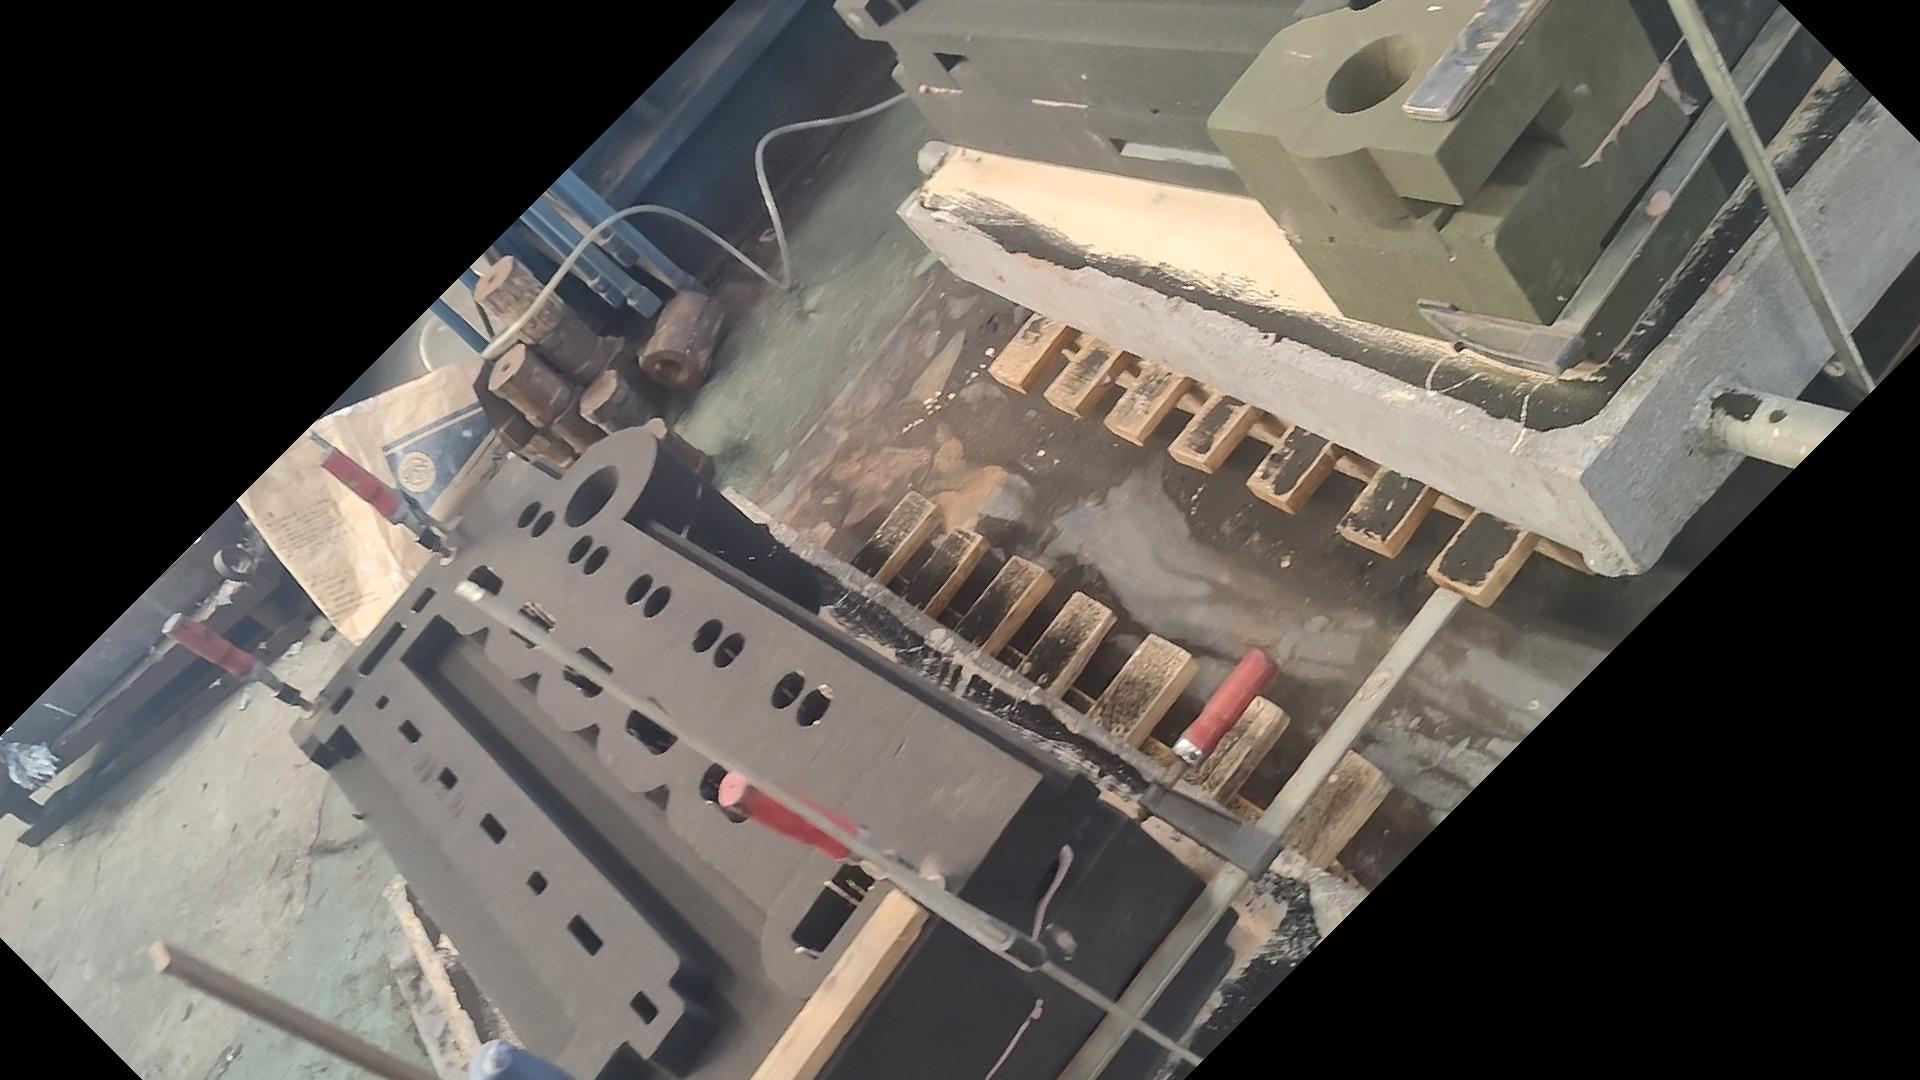pouring hole: (1327, 32, 1425, 113), (564, 465, 620, 526)
